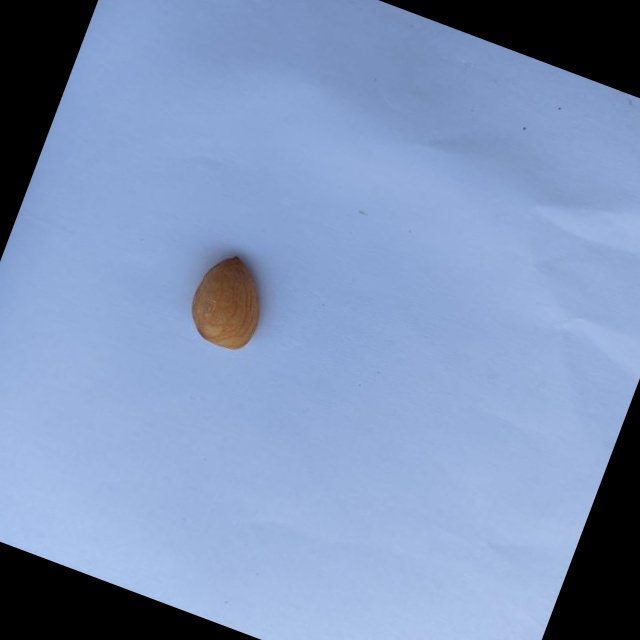grade2: (177, 244, 285, 362)
